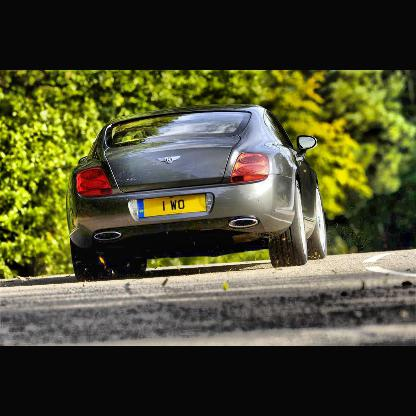Bentley Continental GT Coupe 2007: (68, 104, 328, 281)
